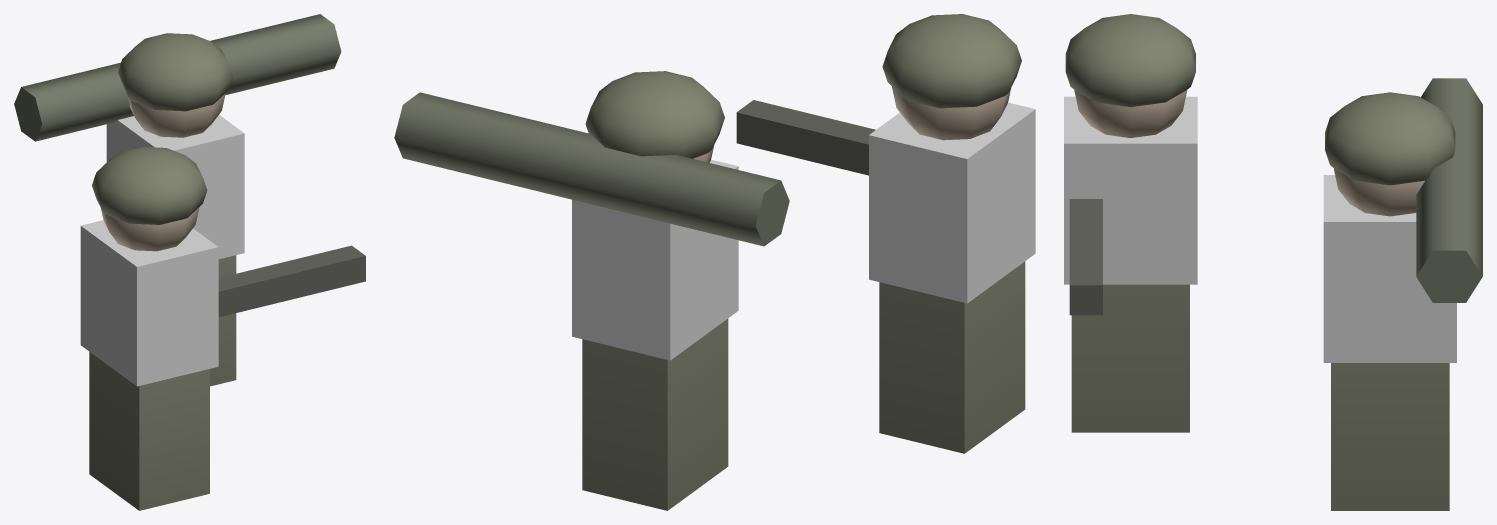
Rendered from m_fpvt_6f2978cf.glb.
3 views of the same model, side by side, from view 1: azimuth 30°, elevation 25°; view 2: azimuth 150°, elevation 25°; view 3: azimuth 270°, elevation 25° (orthographic). The views are drawn at different scales.
Visible parts, largest first — view 1: mesh; view 2: mesh; view 3: mesh.
Boxes of the visible parts, x1=… form: mesh: x1=14, y1=14, x2=365, y2=510; mesh: x1=394, y1=14, x2=1035, y2=510; mesh: x1=1064, y1=14, x2=1482, y2=510.
Size of the model in its own units: 13.35 by 11.6 by 11.3.
